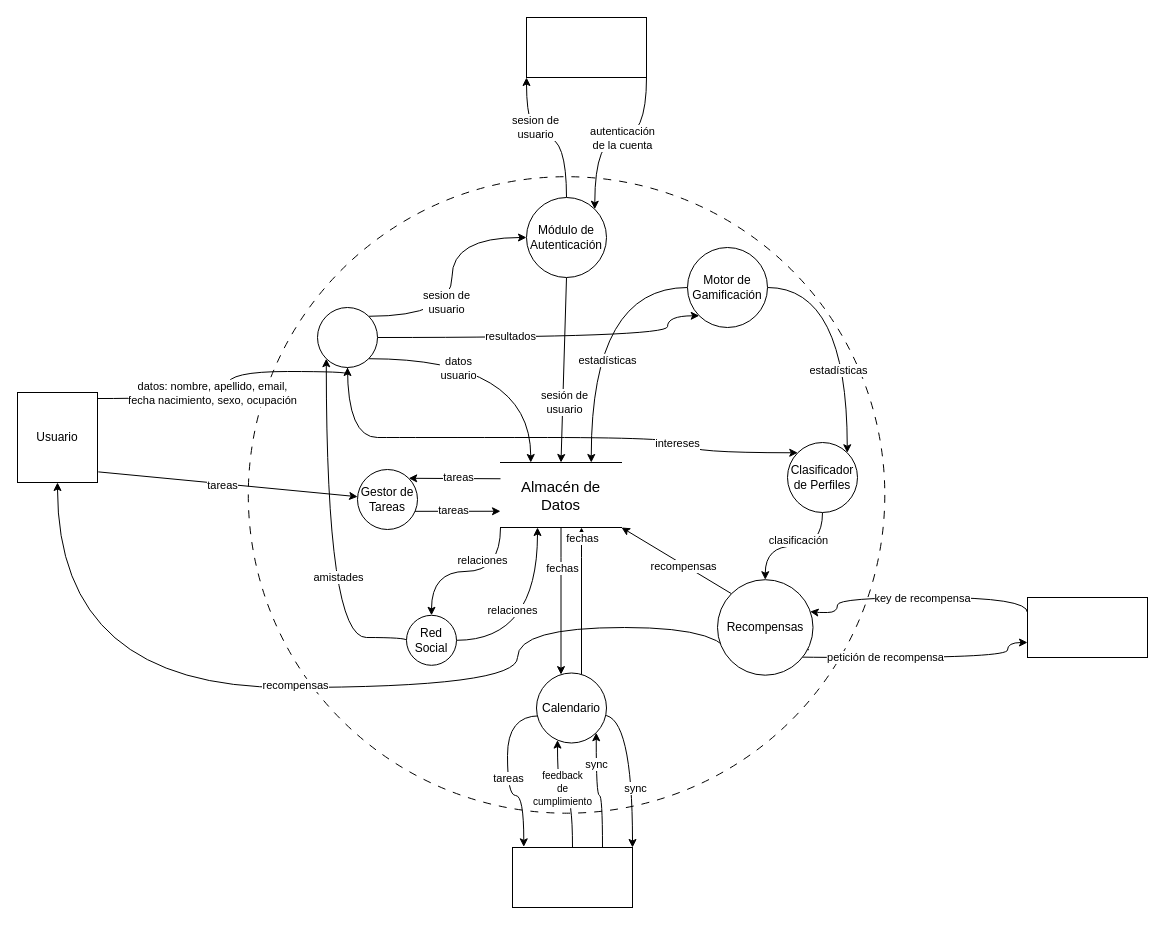
The diagram is 1165 pixels wide and 925 high, and some of its shapes have lost their labels. Each missing label, with the centre of its shape:
"Calendario Externo" belongs at (x=572, y=877).
"Perfil de Usuario" belongs at (x=347, y=337).
"Sevicios de Autenticación" belongs at (x=586, y=47).
"Sistema de recompensas externas (API de Gift Cards)" belongs at (x=1087, y=627).
